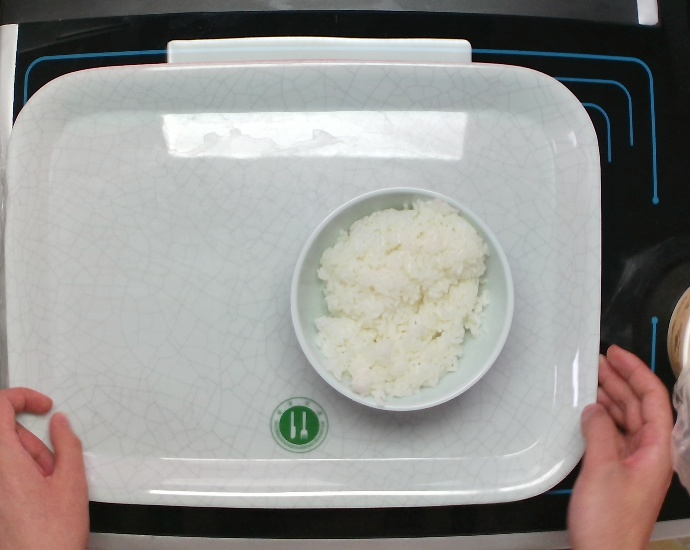JYsf-Fan_Wan: (289, 184, 517, 414)
